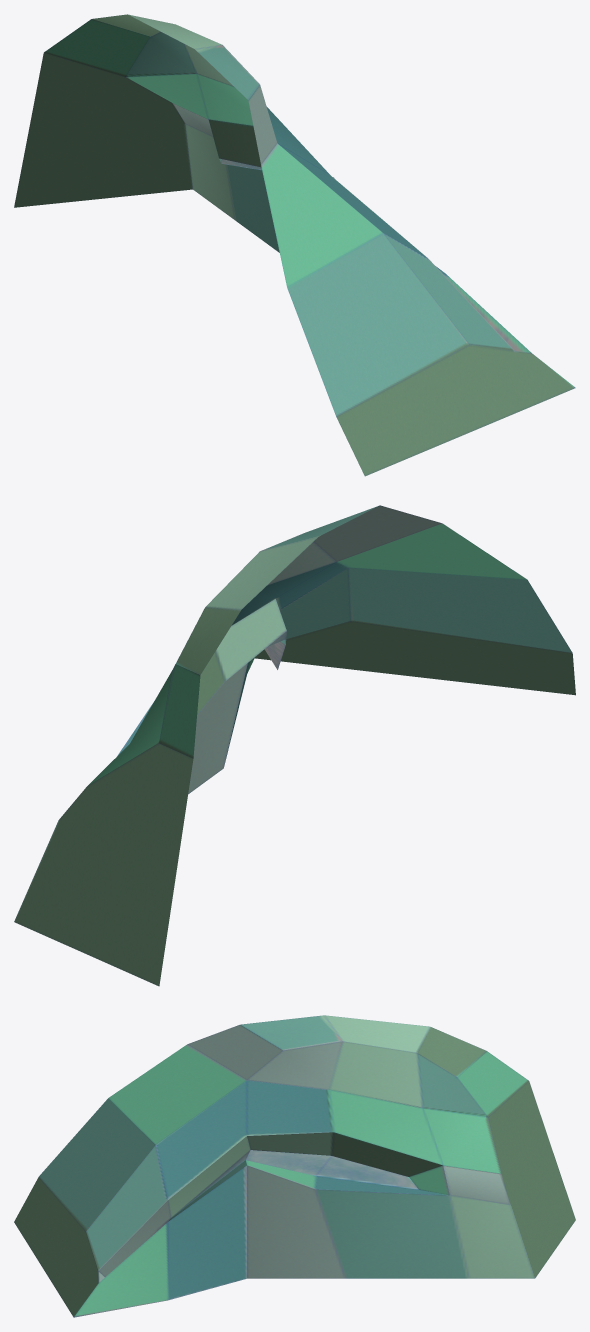
The model's file is crag-face.fbx.
The picture shows the model from 3 angles, top to bottom: view 1: azimuth 30°, elevation 25°; view 2: azimuth 150°, elevation 25°; view 3: azimuth 270°, elevation 25°; orthographic projection. The views are drawn at different scales.
Visible parts, largest first — view 1: CragFace; view 2: CragFace; view 3: CragFace.
Boxes of the visible parts, x1,y1,x2,y2 form: CragFace: (14,14,575,476); CragFace: (14,505,575,986); CragFace: (14,1015,575,1317).
Size of the model in its own units: 18.49 by 18.29 by 42.88.
Materials: 1 (1 with a texture image).
